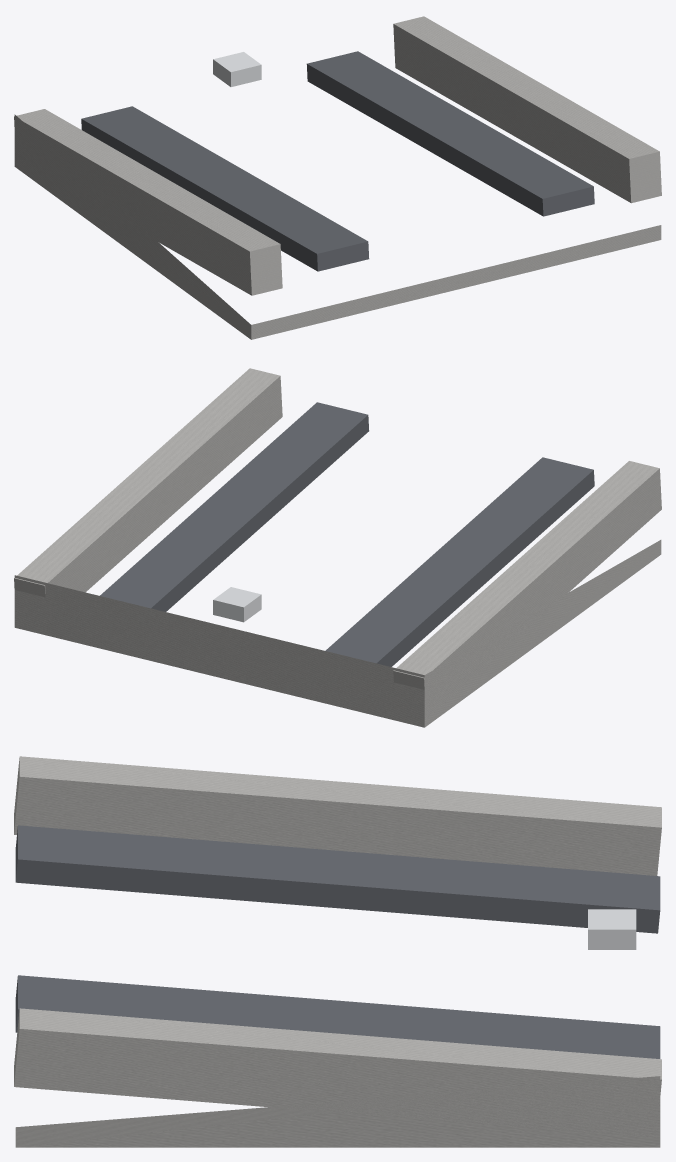
File: shipyard-and-dry-dock-shipyard-and-dry-dock-slipway-se-c9454f46__37919.glb
3 views of the same model, one above another, from view 1: azimuth 30°, elevation 25°; view 2: azimuth 150°, elevation 25°; view 3: azimuth 270°, elevation 25° (orthographic). The views are drawn at different scales.
Parts seen in each view (by area): view 1: shipyard-and-dry-dock-slipway-section; view 2: shipyard-and-dry-dock-slipway-section; view 3: shipyard-and-dry-dock-slipway-section.
Part boxes in pixels (x1,y1,x2,y2): shipyard-and-dry-dock-slipway-section: (14,16,661,339); shipyard-and-dry-dock-slipway-section: (14,368,661,727); shipyard-and-dry-dock-slipway-section: (14,756,661,1147).
Bounding box in the file's own units: 4 × 0.8136 × 4.02.
3 materials, 1 textured.
